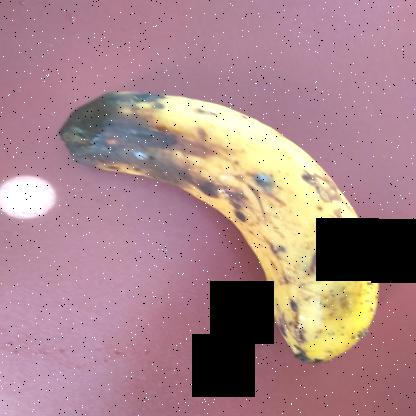rotten: (55, 73, 391, 370)
